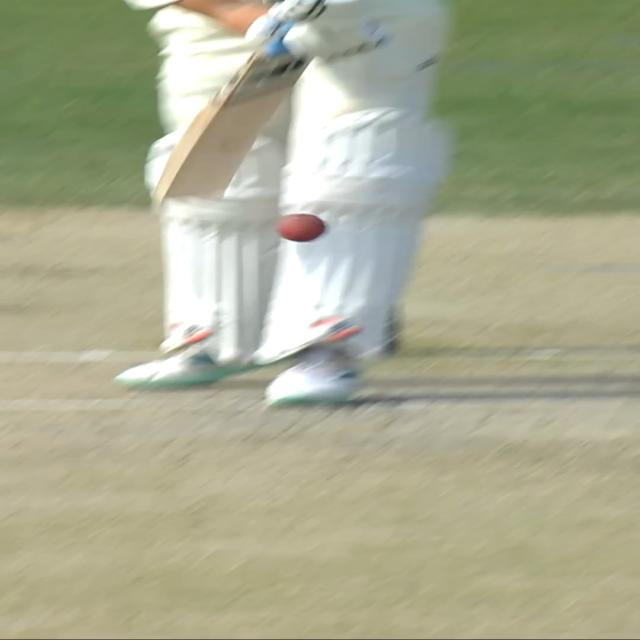Cricket ball: (274, 211, 330, 244)
